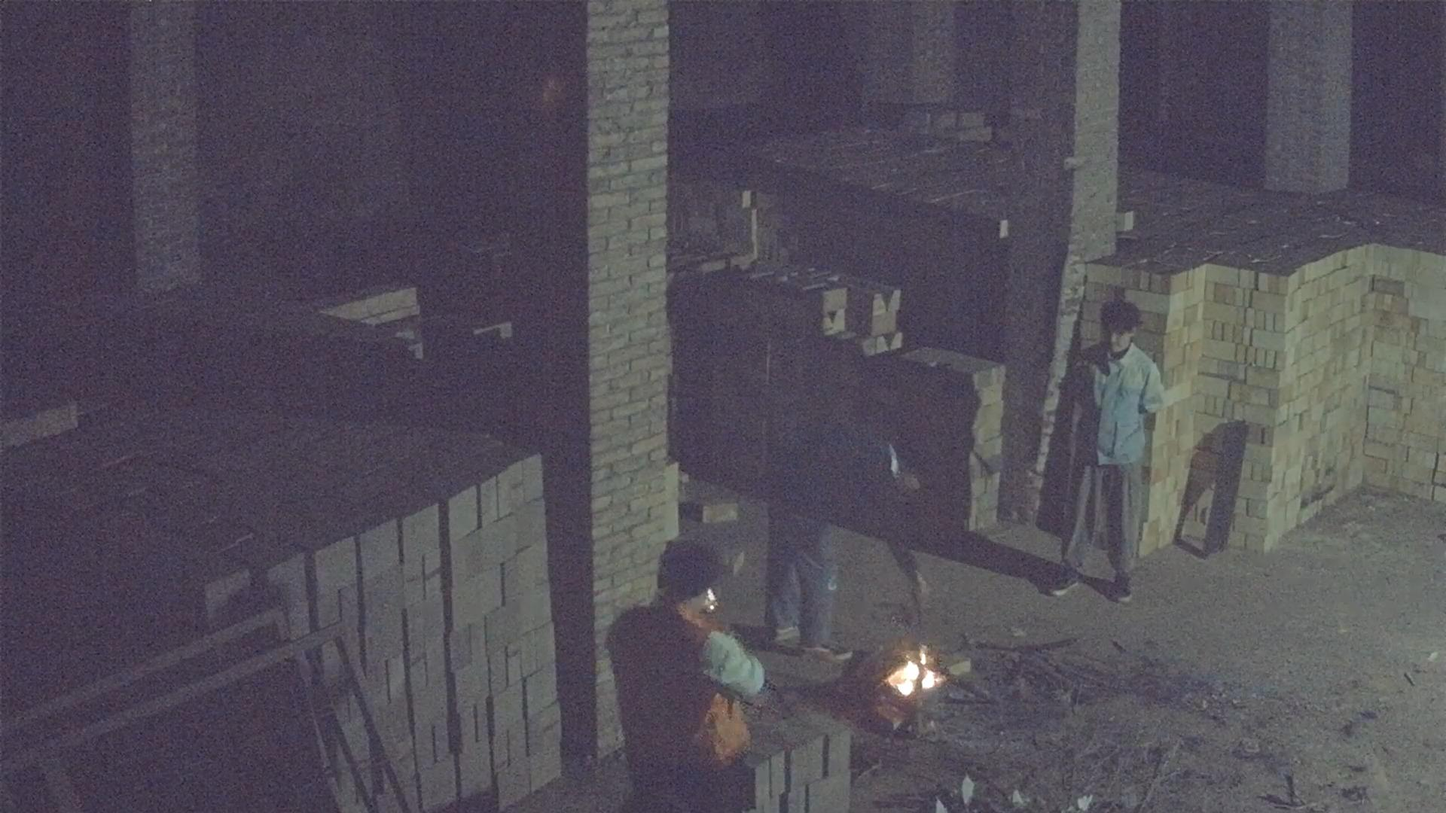fire: (885, 647, 944, 697)
